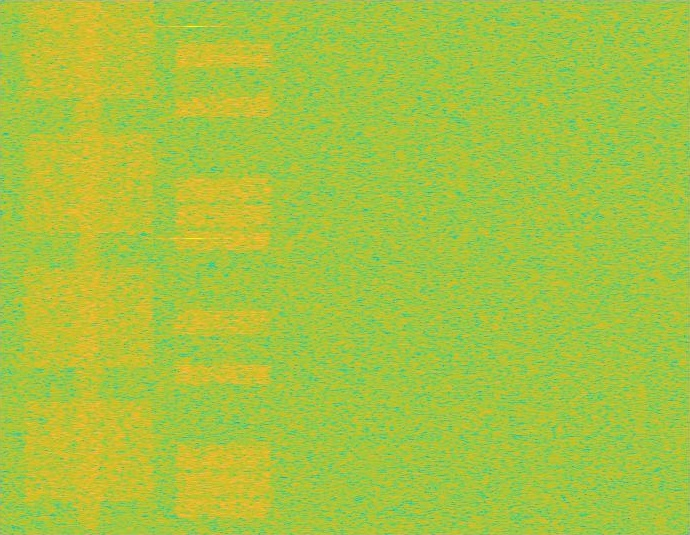5G: (20, 0, 158, 534)
DSSS: (74, 0, 105, 534)
LTE: (171, 0, 275, 534)
Radar: (187, 0, 201, 534)
